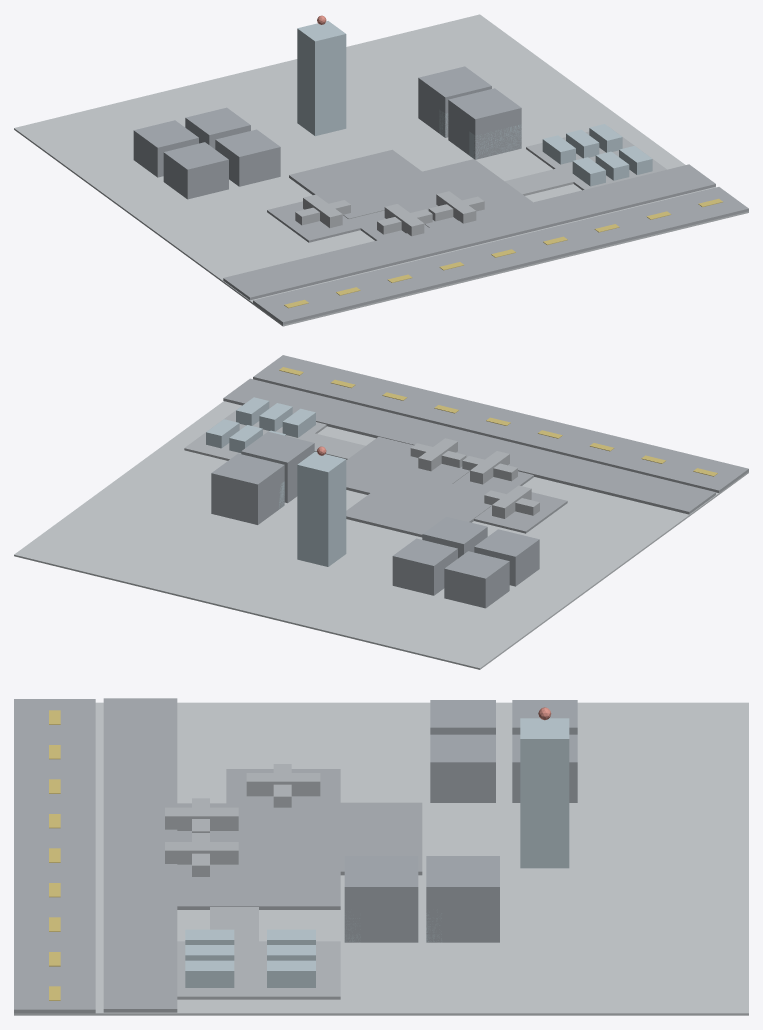
File: stage_16.glb
The picture shows the model from 3 angles, top to bottom: view 1: azimuth 30°, elevation 25°; view 2: azimuth 150°, elevation 25°; view 3: azimuth 270°, elevation 25°; orthographic projection. The views are drawn at different scales.
Parts seen in each view (by area): view 1: geometry_0; view 2: geometry_0; view 3: geometry_0.
Part boxes in pixels (x1,y1,x2,y2): geometry_0: (14, 14, 748, 326); geometry_0: (14, 355, 748, 669); geometry_0: (14, 698, 748, 1015).
Bounding box in the file's own units: 9 × 2.06 × 9.
